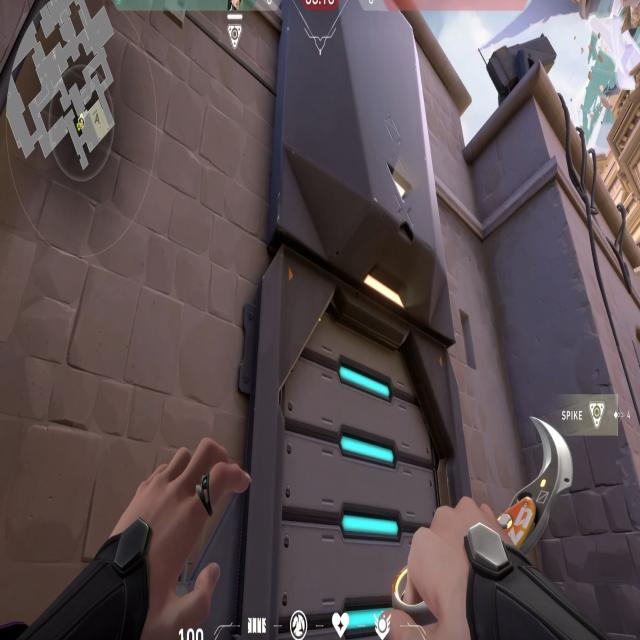A_Door: (280, 242, 456, 629)
